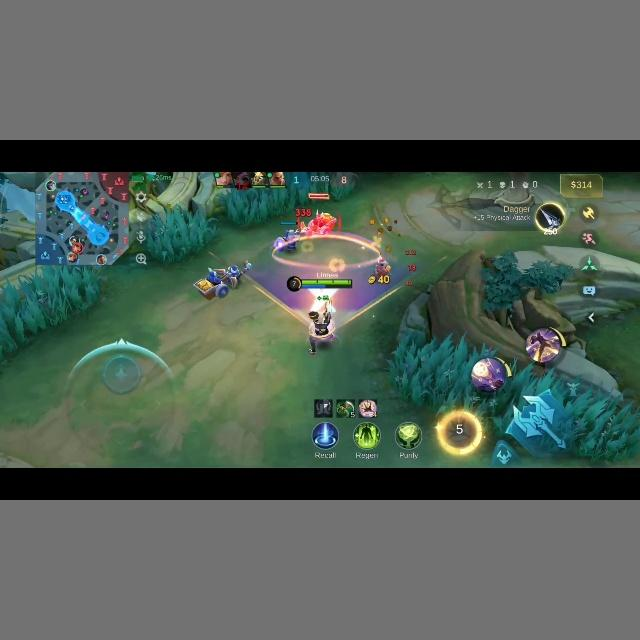hero_self: (306, 305, 338, 354)
hp_enemy: (308, 192, 330, 200), (305, 193, 331, 199)
hp_self: (285, 276, 354, 291), (280, 221, 297, 225), (282, 221, 297, 224)
minion_ally: (193, 259, 253, 300), (280, 228, 299, 252), (281, 226, 299, 248)
minion_enemy: (306, 210, 337, 236), (311, 211, 337, 231), (373, 256, 391, 281)
